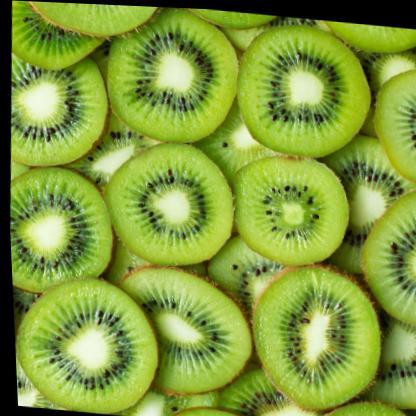--: (224, 9, 376, 163), (240, 249, 382, 412), (9, 264, 161, 416), (97, 3, 244, 159), (107, 262, 258, 405), (95, 131, 237, 278), (6, 159, 122, 312), (221, 143, 351, 273), (3, 41, 113, 182)
